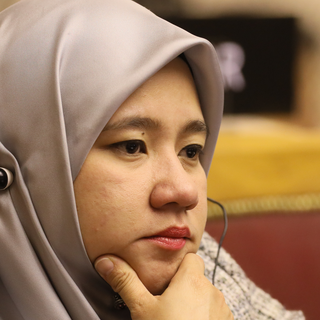eye: (102, 133, 151, 160), (174, 139, 212, 165)
